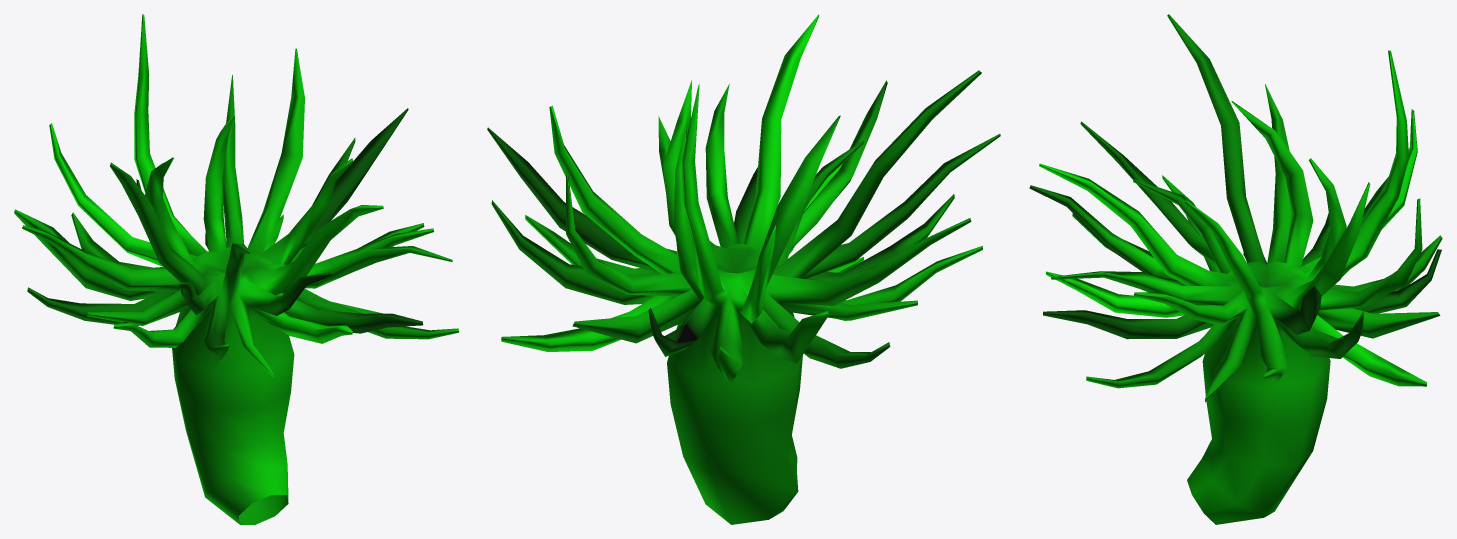
3 renders of one model, left to right at view 1: azimuth 30°, elevation 25°; view 2: azimuth 150°, elevation 25°; view 3: azimuth 270°, elevation 25°, orthographic. The views are drawn at different scales.
Parts seen in each view (by area): view 1: G:\FFXIV-MapTools\exports\s1f4\bg\ffxiv\sea_s1\fld\s1f4\bgpa; view 2: G:\FFXIV-MapTools\exports\s1f4\bg\ffxiv\sea_s1\fld\s1f4\bgpa; view 3: G:\FFXIV-MapTools\exports\s1f4\bg\ffxiv\sea_s1\fld\s1f4\bgpa.
Boxes of the visible parts, x1=… form: G:\FFXIV-MapTools\exports\s1f4\bg\ffxiv\sea_s1\fld\s1f4\bgpa: x1=14, y1=14, x2=458, y2=524; G:\FFXIV-MapTools\exports\s1f4\bg\ffxiv\sea_s1\fld\s1f4\bgpa: x1=487, y1=14, x2=1000, y2=524; G:\FFXIV-MapTools\exports\s1f4\bg\ffxiv\sea_s1\fld\s1f4\bgpa: x1=1029, y1=14, x2=1442, y2=524.
Bounding box in the file's own units: 4.73 × 5.02 × 4.1.
